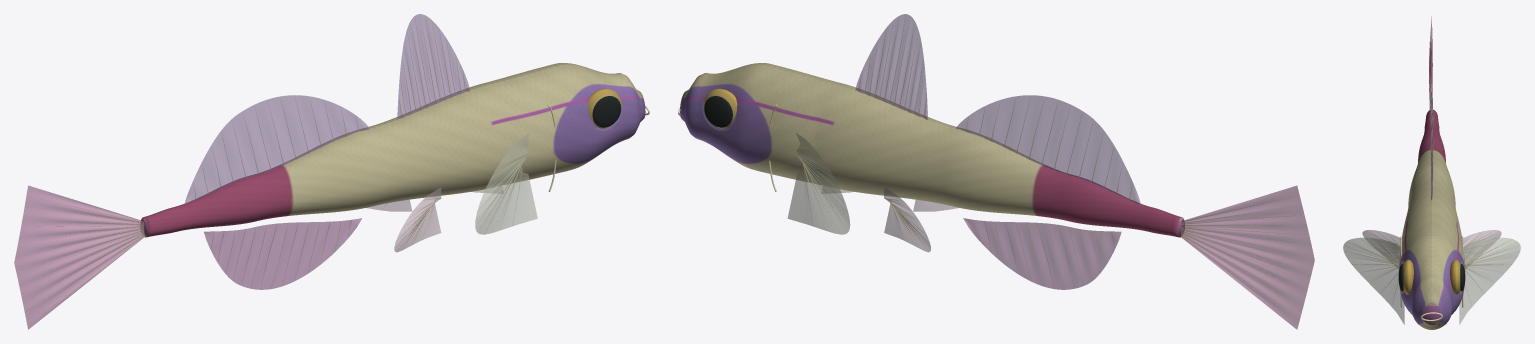
Rendered from purplefire-desktop.glb.
The picture shows the model from 3 angles, left to right: view 1: azimuth 30°, elevation 25°; view 2: azimuth 150°, elevation 25°; view 3: azimuth 270°, elevation 25°; orthographic projection. The views are drawn at different scales.
Parts seen in each view (by area): view 1: skin, dorsal, tail, anal, dorsal-ray, pectoral-left, pelvic-left, eye-pupil--1; view 2: skin, dorsal, tail, anal, dorsal-ray, pectoral-left, pelvic-left, eye-pupil--1; view 3: skin, pectoral-left, pelvic-left, dorsal-ray, eye-iris--1, tail, eye-pupil--1, operculum, dorsal.
Boxes of the visible parts, left/top/right/bottom form: skin: left=140, top=63, right=645, bottom=237; dorsal: left=184, top=14, right=470, bottom=203; tail: left=14, top=185, right=143, bottom=329; anal: left=204, top=218, right=361, bottom=289; dorsal-ray: left=17, top=15, right=529, bottom=319; pectoral-left: left=472, top=133, right=537, bottom=234; pelvic-left: left=367, top=188, right=441, bottom=252; eye-pupil--1: left=592, top=96, right=621, bottom=127; skin: left=680, top=63, right=1184, bottom=237; dorsal: left=855, top=14, right=1140, bottom=204; tail: left=1181, top=185, right=1314, bottom=329; anal: left=963, top=218, right=1121, bottom=289; dorsal-ray: left=796, top=14, right=1313, bottom=319; pectoral-left: left=787, top=133, right=853, bottom=234; pelvic-left: left=884, top=188, right=958, bottom=252; eye-pupil--1: left=704, top=96, right=732, bottom=127; skin: left=1398, top=110, right=1465, bottom=329; pectoral-left: left=1343, top=237, right=1520, bottom=324; pelvic-left: left=1362, top=230, right=1501, bottom=268; dorsal-ray: left=1351, top=28, right=1515, bottom=297; eye-iris--1: left=1403, top=259, right=1460, bottom=294; tail: left=1429, top=16, right=1432, bottom=109; eye-pupil--1: left=1398, top=264, right=1465, bottom=291; operculum: left=1400, top=236, right=1463, bottom=321; dorsal: left=1431, top=85, right=1432, bottom=200.
Bounding box in the file's own units: 0.6032 × 0.2184 × 0.1805.
Materials: 11 (1 with a texture image).
